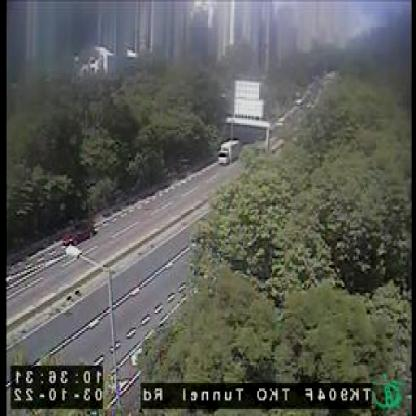Car: (64, 219, 95, 246)
Truck: (219, 138, 240, 164)
